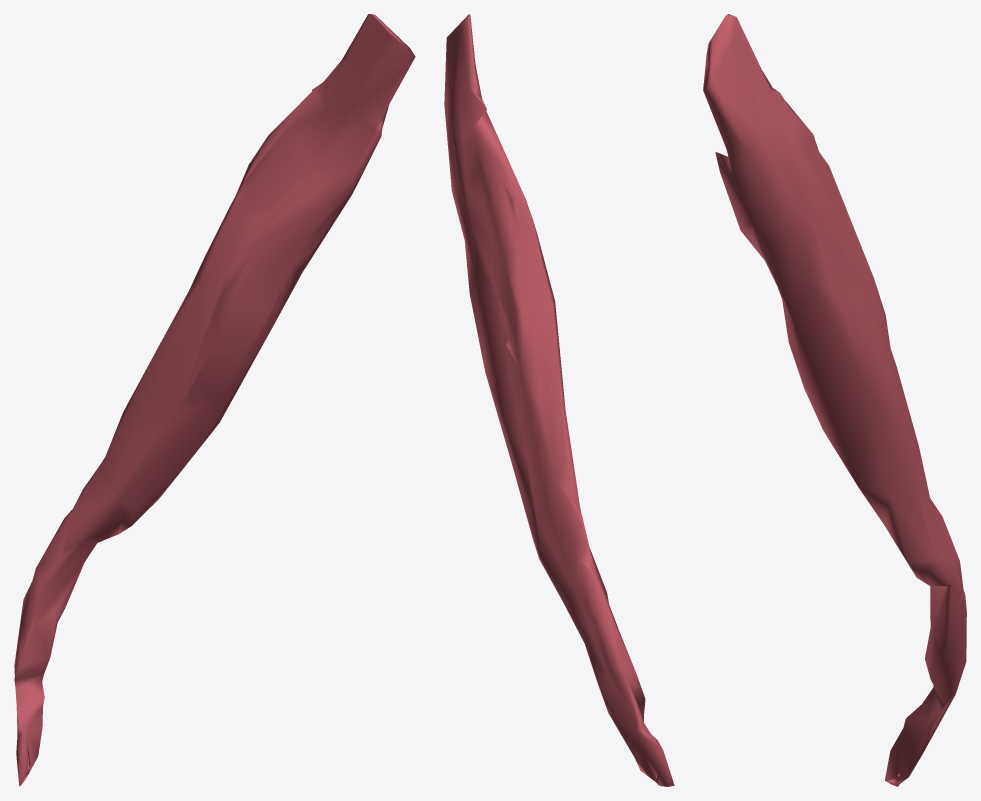
The picture shows the model from 3 angles, left to right: view 1: azimuth 30°, elevation 25°; view 2: azimuth 150°, elevation 25°; view 3: azimuth 270°, elevation 25°; orthographic projection. The views are drawn at different scales.
Visible parts, largest first — view 1: 右侧小趾短屈肌; view 2: 右侧小趾短屈肌; view 3: 右侧小趾短屈肌.
Boxes of the visible parts, x1,y1,x2,y2 form: 右侧小趾短屈肌: [14, 14, 415, 786]; 右侧小趾短屈肌: [444, 14, 674, 786]; 右侧小趾短屈肌: [703, 14, 966, 786].
Bounding box in the file's own units: 0.0487 × 0.1072 × 0.0271.
